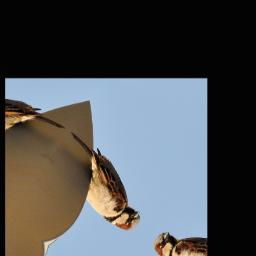Swallow: (39, 130, 161, 237)
